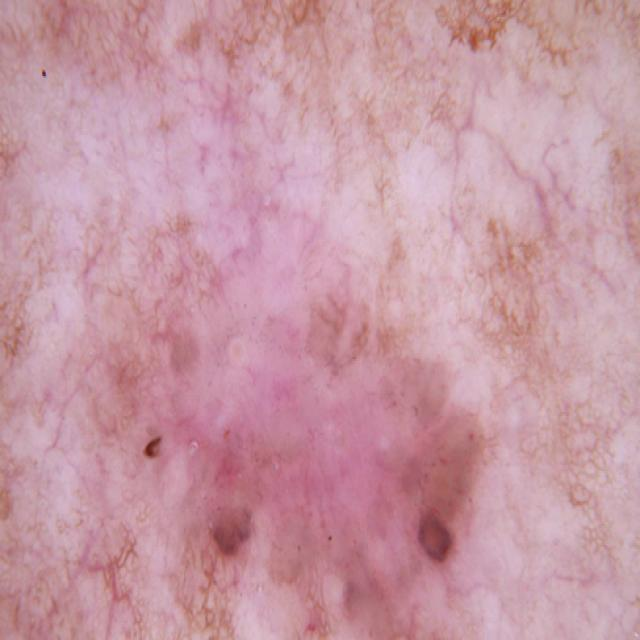Carcinoma: (93, 157, 513, 640)
